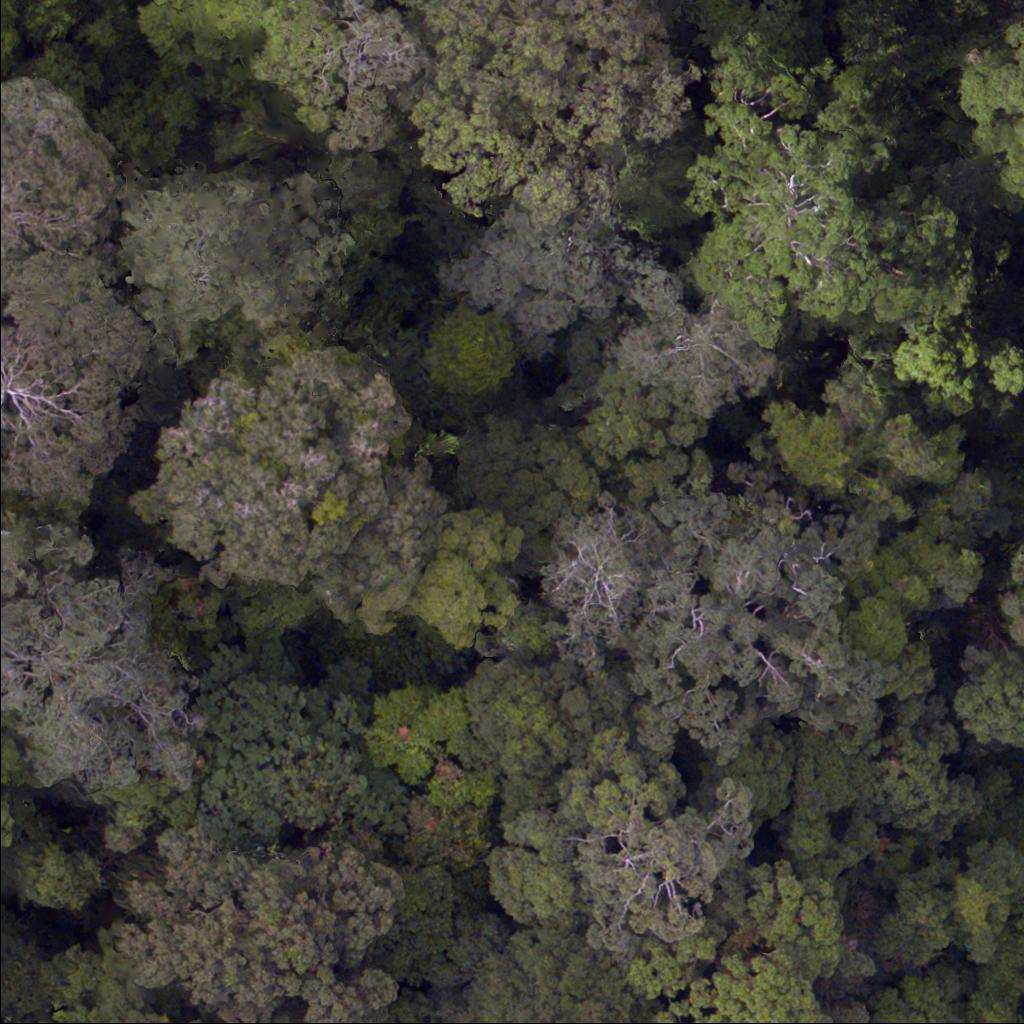crown: (691, 33, 969, 343), (627, 496, 888, 769), (409, 0, 701, 225), (134, 350, 405, 587), (124, 836, 396, 1023), (199, 654, 402, 850), (118, 180, 341, 355), (0, 574, 181, 779), (428, 209, 660, 352), (572, 780, 753, 958), (454, 660, 626, 818), (256, 0, 425, 153), (0, 77, 124, 266), (0, 325, 124, 503), (0, 247, 151, 382), (537, 494, 656, 664), (852, 694, 987, 840), (432, 923, 626, 1023), (622, 276, 769, 402), (720, 863, 873, 979), (457, 422, 598, 530), (653, 957, 863, 1023), (579, 390, 707, 496), (410, 512, 515, 641), (965, 31, 1023, 188), (876, 863, 954, 975), (139, 0, 297, 54), (624, 924, 724, 996), (771, 412, 866, 487), (897, 322, 976, 412), (51, 960, 162, 1023), (952, 648, 1023, 744), (430, 314, 506, 386), (0, 509, 51, 596), (868, 975, 959, 1023), (993, 350, 1023, 392), (1010, 559, 1023, 651), (0, 804, 10, 839)
